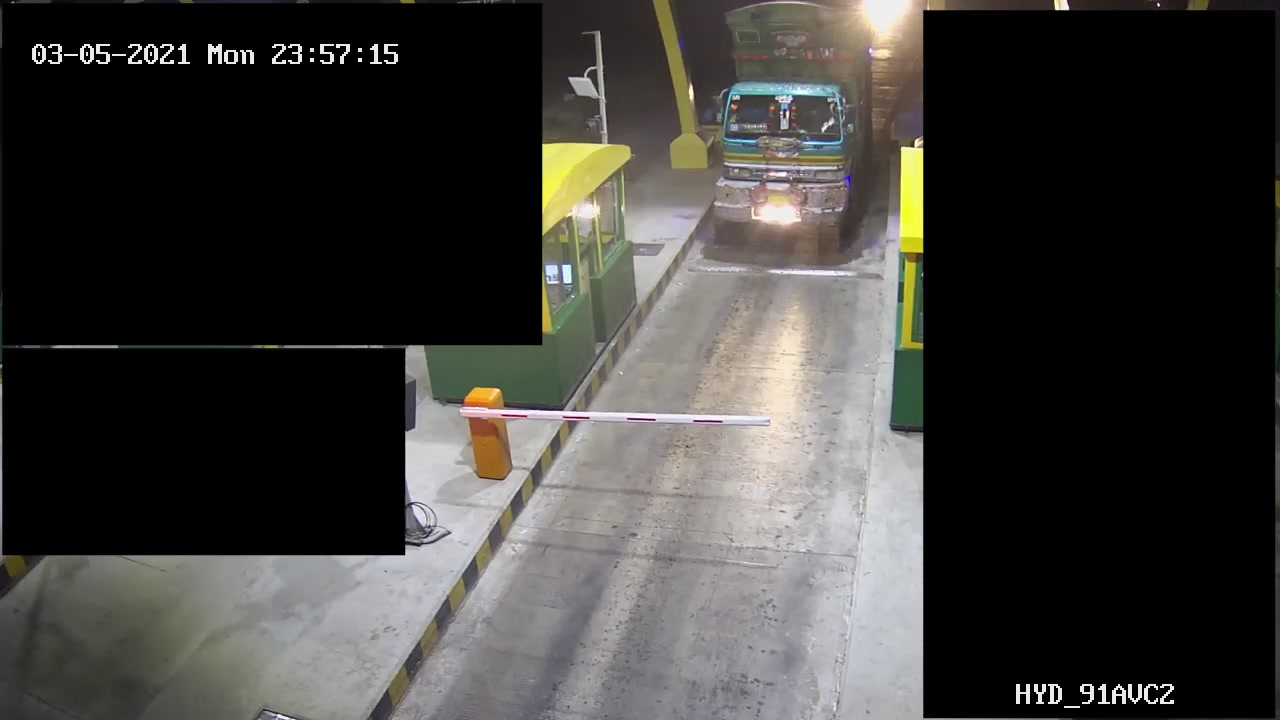F5: (711, 1, 876, 242)
